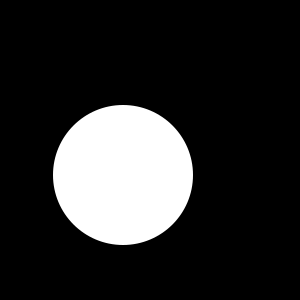rectangle: (53, 105, 193, 245)
